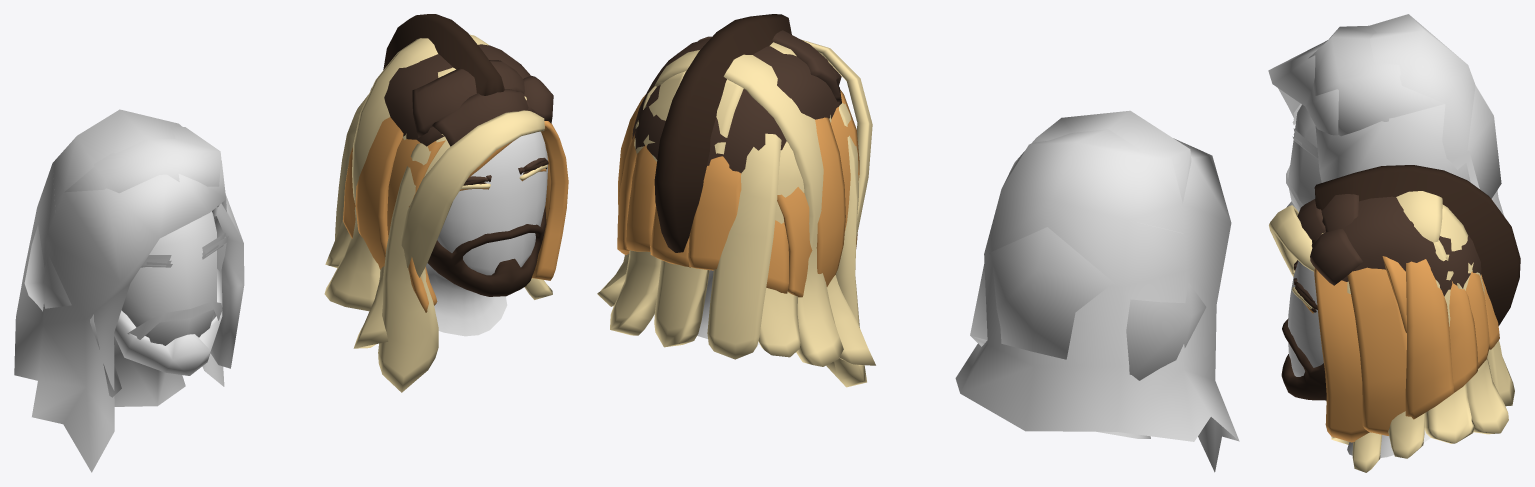
The model's file is AvatarHair_Modded.fbx.
The picture shows the model from 3 angles, left to right: view 1: azimuth 30°, elevation 25°; view 2: azimuth 150°, elevation 25°; view 3: azimuth 270°, elevation 25°; orthographic projection. The views are drawn at different scales.
Visible parts, largest first — view 1: AvatarHair_02_lod, AvatarHair_02, AvatarHead, AvatarHead_lod, AvatarHair_01, AvatarHair_03, AvatarHair_03_lod, AvatarHair_01_lod, AvatarHair_04_lod, AvatarHair_04, AvatarHair_05; view 2: AvatarHair_02_lod, AvatarHair_02, AvatarHair_01, AvatarHair_01_lod, AvatarHair_05, AvatarHair_03, AvatarHair_03_lod; view 3: AvatarHair_01, AvatarHair_02, AvatarHair_02_lod, AvatarHair_03, AvatarHair_01_lod, AvatarHair_05, AvatarHair_03_lod, AvatarHead, AvatarHead_lod, AvatarHair_04, AvatarHair_04_lod.
Boxes of the visible parts, x1,y1,x2,y2 form: AvatarHair_02_lod: (14, 109, 226, 472); AvatarHair_02: (324, 34, 552, 392); AvatarHead: (426, 131, 547, 336); AvatarHead_lod: (114, 211, 216, 406); AvatarHair_01: (343, 117, 568, 312); AvatarHair_03: (370, 44, 553, 182); AvatarHair_03_lod: (64, 126, 225, 260); AvatarHair_01_lod: (24, 173, 244, 397); AvatarHair_04_lod: (114, 236, 228, 375); AvatarHair_04: (427, 159, 548, 296); AvatarHair_05: (383, 14, 547, 185); AvatarHair_02_lod: (955, 129, 1239, 472); AvatarHair_02: (597, 39, 875, 387); AvatarHair_01: (617, 89, 859, 297); AvatarHair_01_lod: (970, 223, 1206, 380); AvatarHair_05: (654, 14, 791, 252); AvatarHair_03: (632, 30, 841, 173); AvatarHair_03_lod: (1002, 110, 1191, 203); AvatarHair_01: (1295, 256, 1499, 442); AvatarHair_02: (1269, 191, 1514, 472); AvatarHair_02_lod: (1268, 14, 1503, 215); AvatarHair_03: (1294, 194, 1481, 302); AvatarHair_01_lod: (1292, 86, 1501, 198); AvatarHair_05: (1295, 165, 1520, 325); AvatarHair_03_lod: (1293, 25, 1444, 152); AvatarHead: (1288, 261, 1430, 457); AvatarHead_lod: (1288, 104, 1321, 212); AvatarHair_04: (1281, 287, 1326, 400); AvatarHair_04_lod: (1286, 116, 1318, 210).
Size of the model in its own units: 16567 by 9763 by 7037.
